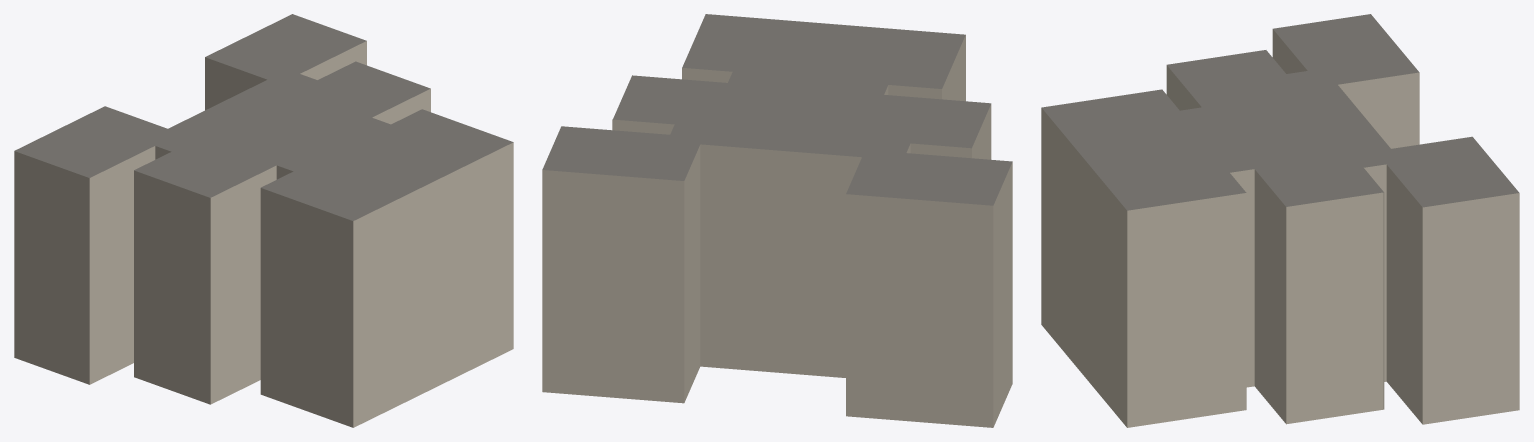
3 renders of one model, left to right at view 1: azimuth 30°, elevation 25°; view 2: azimuth 150°, elevation 25°; view 3: azimuth 270°, elevation 25°, orthographic. The views are drawn at different scales.
Visible parts, largest first — view 1: HP-w1435372638; view 2: HP-w1435372638; view 3: HP-w1435372638.
Boxes of the visible parts, <box> form: HP-w1435372638: <box>14,14,513,427</box>; HP-w1435372638: <box>542,14,1012,427</box>; HP-w1435372638: <box>1041,14,1519,427</box>.
Size of the model in its own units: 34.95 by 18 by 35.9.
